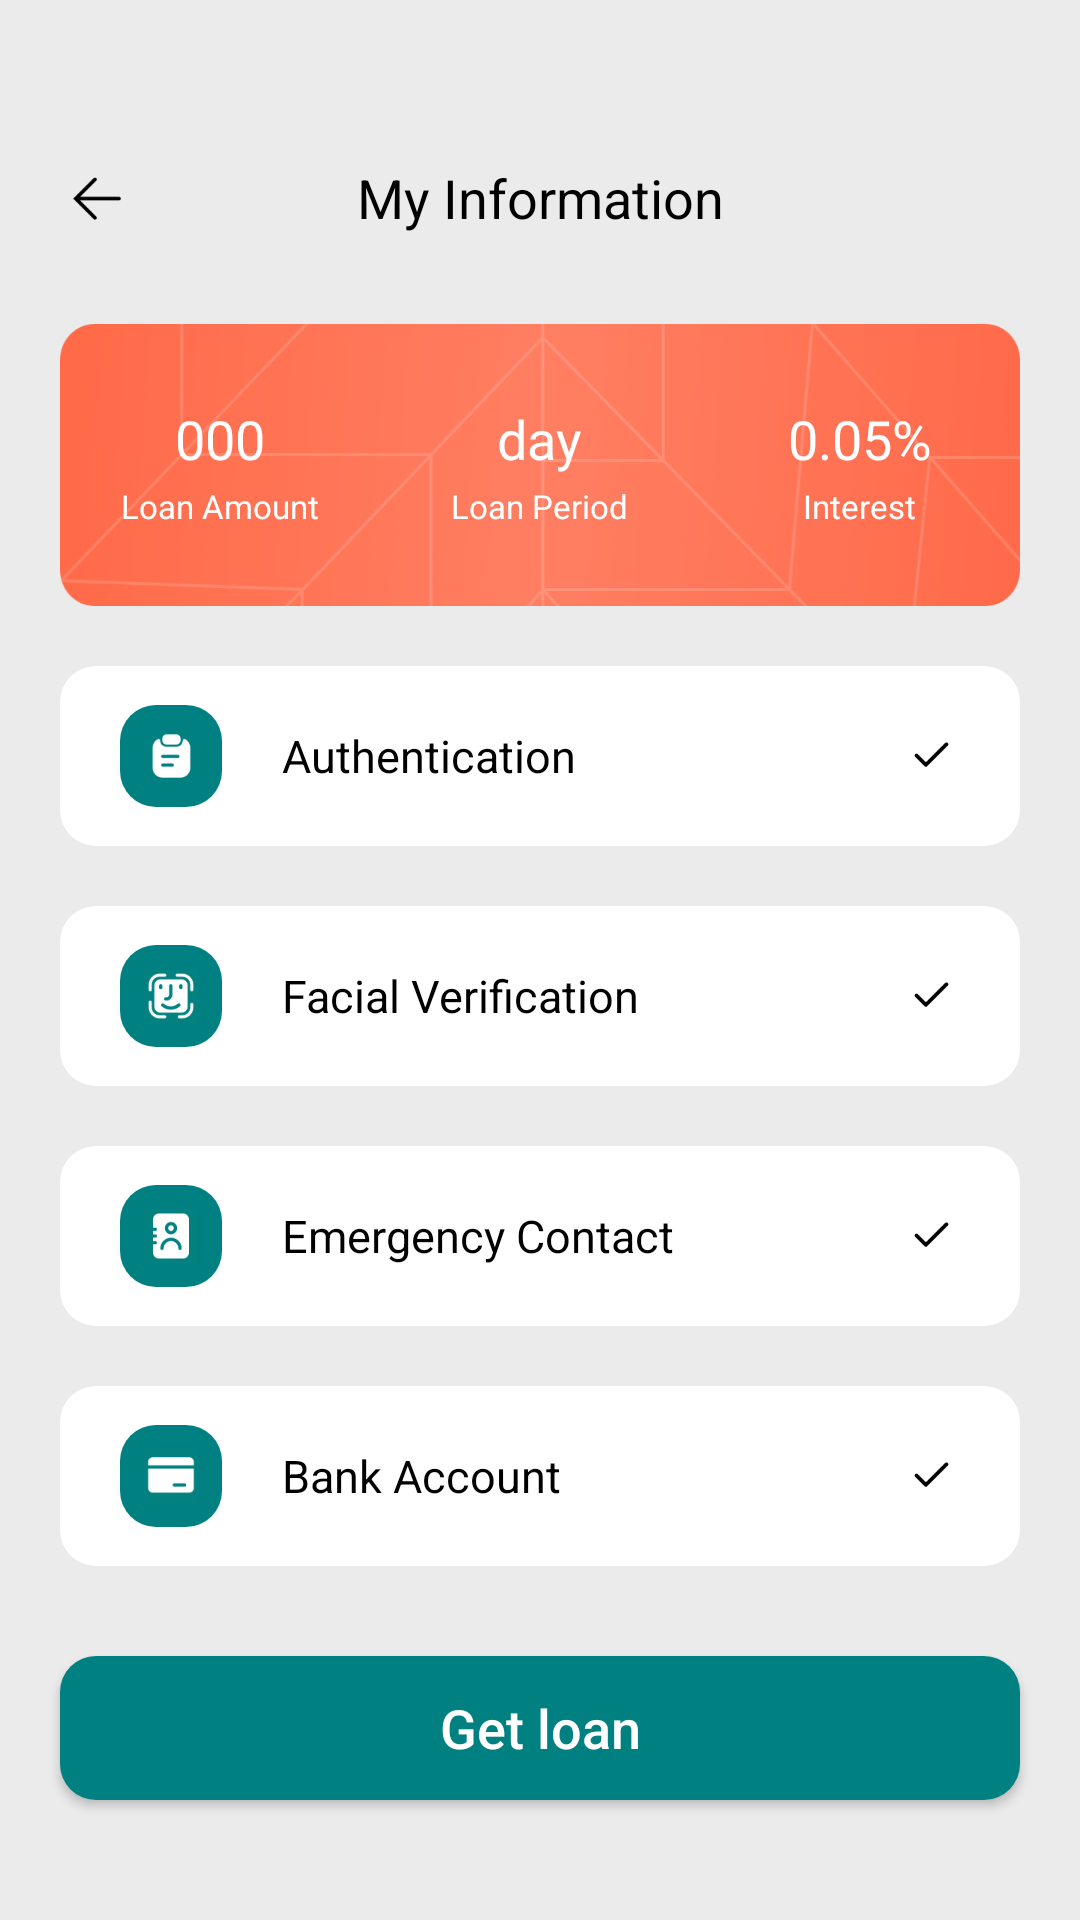

Named icons in this screenshot (1080x1920) and their centers, [x,y]:
back: [97,198]
